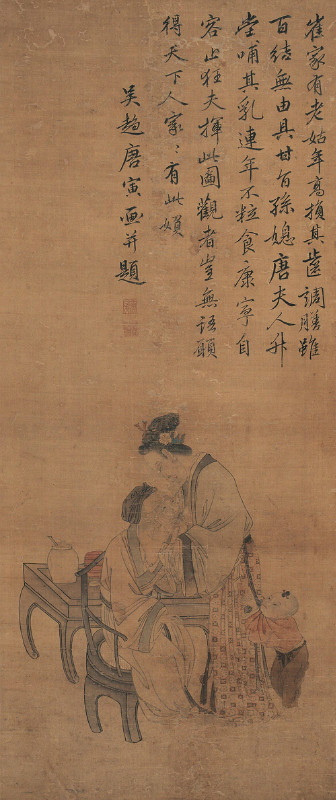decoration: (47, 542, 75, 589), (83, 553, 101, 576)
kid: (249, 595, 309, 700)
man: (113, 491, 186, 718)
table: (19, 584, 76, 660)
woman: (186, 453, 260, 715), (145, 424, 191, 477)
